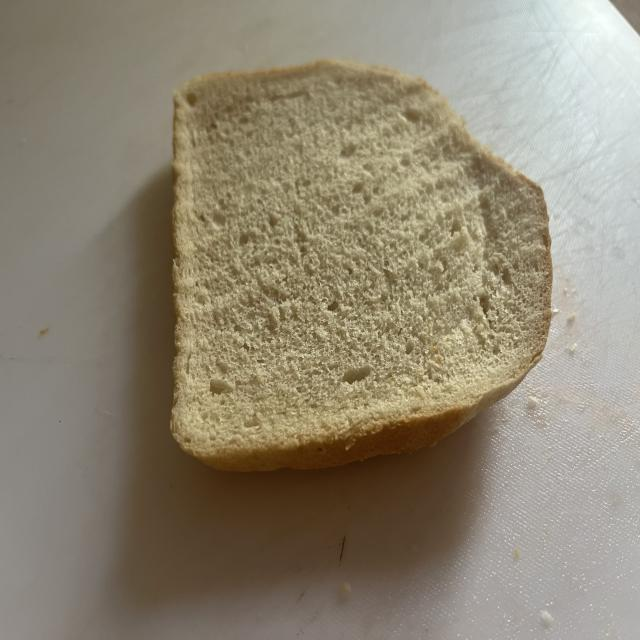sliced_bread: (170, 61, 553, 471)
